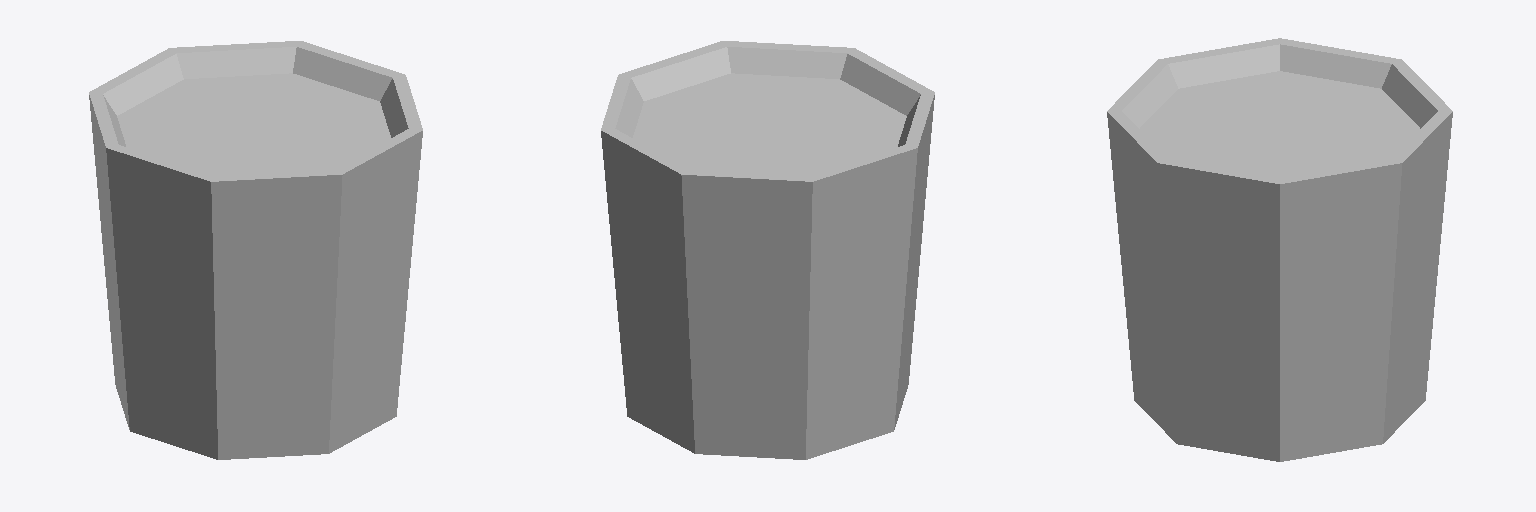
The model's file is barrel_planter_small.obj.
The picture shows the model from 3 angles: view 1: azimuth 30°, elevation 25°; view 2: azimuth 150°, elevation 25°; view 3: azimuth 270°, elevation 25°; orthographic projection.
Parts seen in each view (by area): view 1: Barrel_Planter_Small_Cylinder.011; view 2: Barrel_Planter_Small_Cylinder.011; view 3: Barrel_Planter_Small_Cylinder.011.
Boxes of the visible parts, <box> form: Barrel_Planter_Small_Cylinder.011: <box>89,41,422,459</box>; Barrel_Planter_Small_Cylinder.011: <box>601,41,934,459</box>; Barrel_Planter_Small_Cylinder.011: <box>1107,38,1452,461</box>.
Bounding box in the file's own units: 0.5038 × 0.4647 × 0.5038.